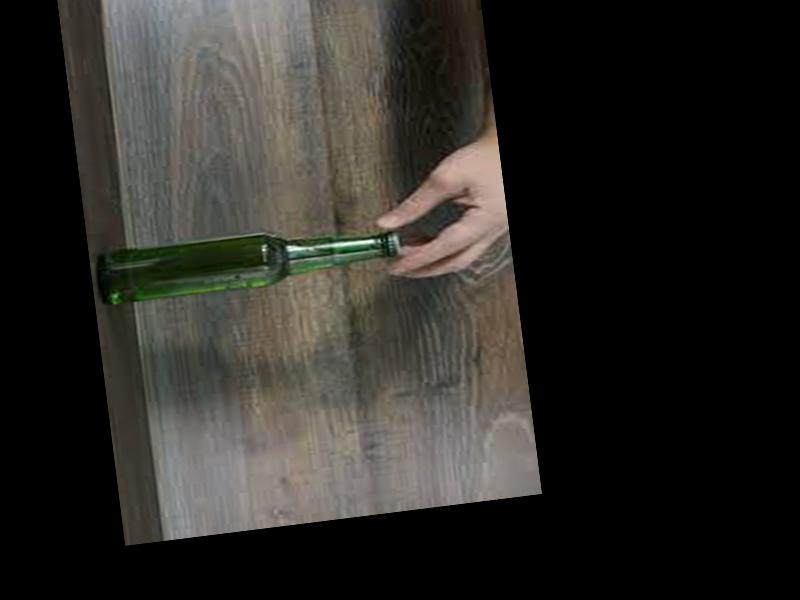Beer: (96, 214, 404, 306)
